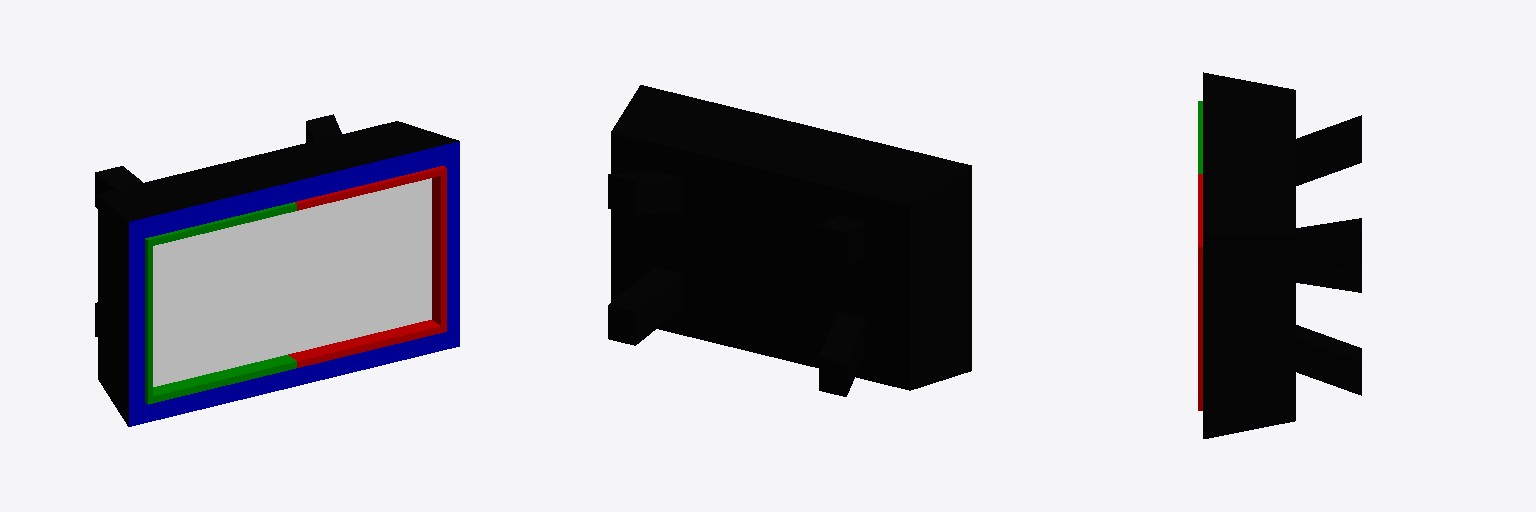
3 views of the same model, side by side, from view 1: azimuth 30°, elevation 25°; view 2: azimuth 150°, elevation 25°; view 3: azimuth 270°, elevation 25° (orthographic).
Parts seen in each view (by area): view 1: Mesh_tableFullUpdate; view 2: Mesh_tableFullUpdate; view 3: Mesh_tableFullUpdate.
Part boxes in pixels (left/top/right/bottom): Mesh_tableFullUpdate: left=95, top=114, right=459, bottom=426; Mesh_tableFullUpdate: left=608, top=85, right=971, bottom=396; Mesh_tableFullUpdate: left=1198, top=72, right=1361, bottom=438.
Size of the model in its own units: 346 by 205 by 149.
5 materials, 1 textured.